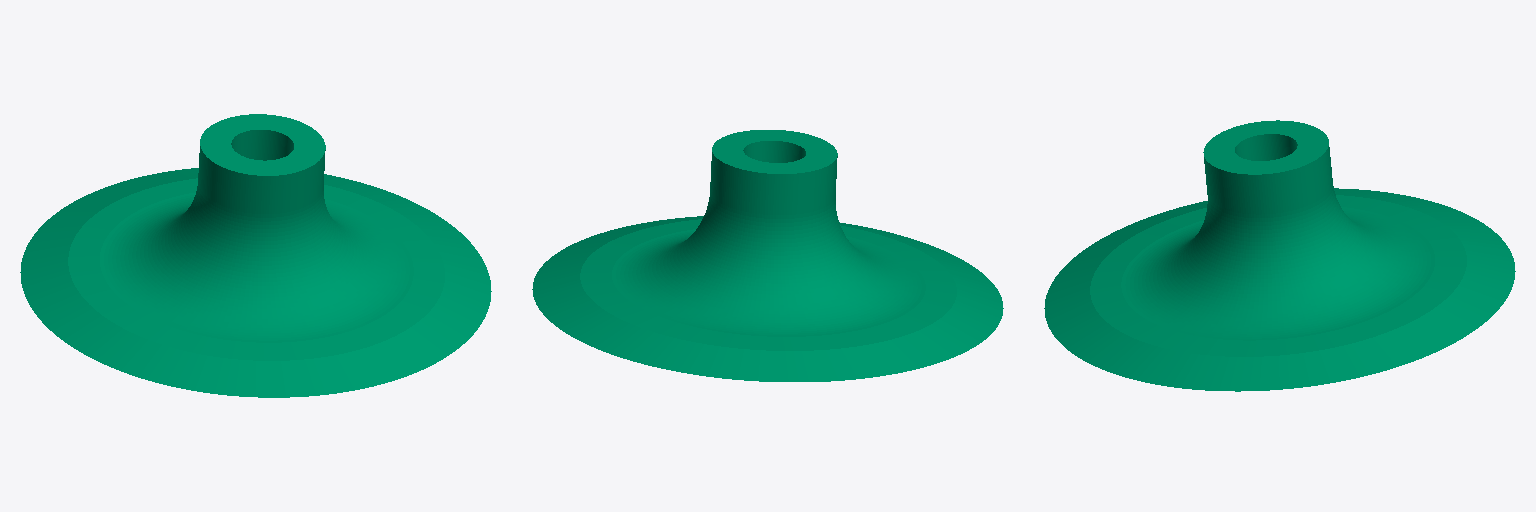
robot.urdf — grinding_machine:
<?xml version="1.0" ?>
<robot name="grinding_machine">
  <!-- Base link -->
  <link name="base"/>
  <link name="spindle"/>

  <!-- Prismatic joint -->
  <joint name="prismatic_joint" type="prismatic">
    <parent link="base"/>
    <child link="spindle"/>
    <origin xyz="0 0 0.1" rpy="0 0 0"/>
    <axis xyz="0 0 1"/>
    <limit lower="0" upper="1" effort="10" velocity="1"/>
  </joint>

  <joint name="fixed_joint" type="fixed">
    <parent link="spindle"/>
    <child link="object"/>
    <origin xyz="0 0 0.0" rpy="0.0872665 0 0"/> <!--5 degrees in radians-->
  </joint>


  <!-- Object attached to the robot, described by an .stl file -->
  <link name="object">
    <inertial>
      <mass value="1.0"/>
      <inertia ixx="0.1" ixy="0.0" ixz="0.0" iyy="0.1" iyz="0.0" izz="0.1"/>
    </inertial>
    <visual>
      <geometry>
        <mesh filename="package://hydroelastic/mesh/roloc.obj" scale="1 1 1"/>
        <!-- <cylinder length="0.02" radius="0.0375"/> -->
      </geometry>
    </visual>
    <collision>
      <geometry>
        <mesh filename="package://hydroelastic/mesh/roloc.obj" scale="1 1 1"/>
        <!-- <cylinder length="0.02" radius="0.0375"/> -->
      </geometry>
    </collision>
  </link>
</robot>

--- Render facts (derived) ---
Views: 3 orthographic renders of the robot side by side, from view 1: azimuth 30°, elevation 25°; view 2: azimuth 150°, elevation 25°; view 3: azimuth 270°, elevation 25°.
Model grinding_machine with 3 links and 2 joints (1 prismatic, 1 fixed), rooted at base, posed every joint at zero.
Links seen in each view (by area): view 1: object; view 2: object; view 3: object.
Boxes of the visible links, x1,y1,x2,y2 form: object: (20, 114, 491, 397); object: (532, 130, 1003, 381); object: (1044, 120, 1515, 391).
Size in the robot's own frame: 0.075 by 0.0747 by 0.029 metres.
1 mesh visuals loaded from 1 distinct referenced files (1 OBJ).